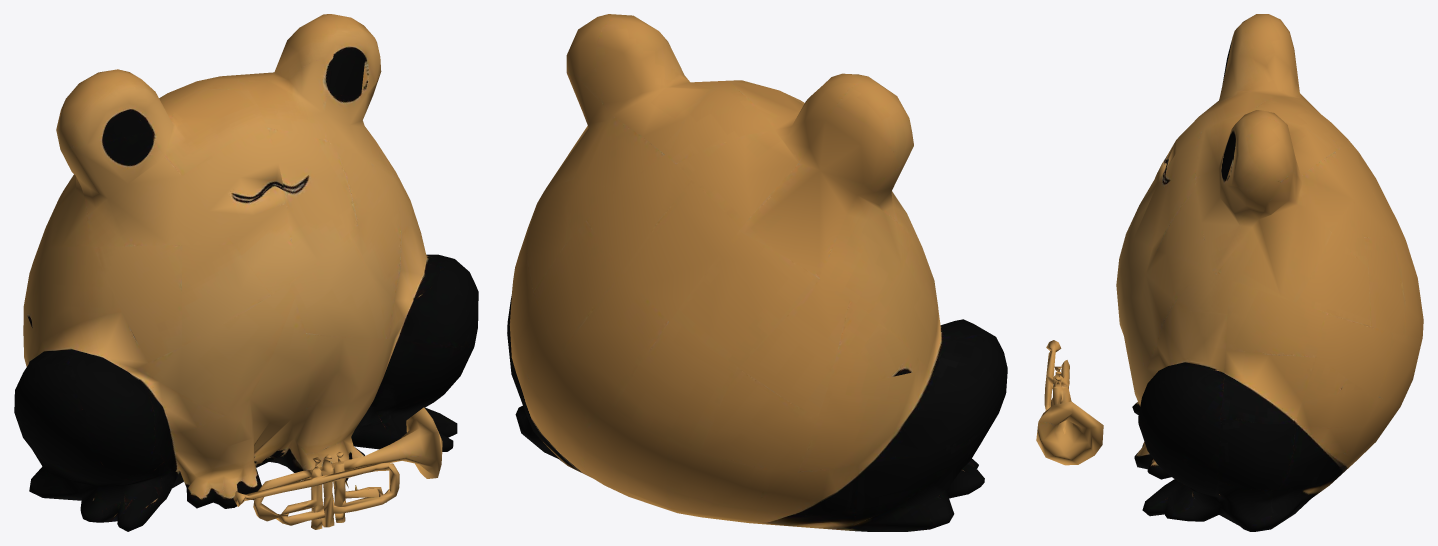
The model's file is musicienne.glb.
3 renders of one model, left to right at view 1: azimuth 30°, elevation 25°; view 2: azimuth 150°, elevation 25°; view 3: azimuth 270°, elevation 25°, orthographic. The views are drawn at different scales.
Visible parts, largest first — view 1: mesh_node; view 2: mesh_node; view 3: mesh_node.
Boxes of the visible parts, left/top/right/bottom form: mesh_node: left=14, top=14, right=478, bottom=531; mesh_node: left=507, top=14, right=1007, bottom=531; mesh_node: left=1036, top=14, right=1423, bottom=531.
Size of the model in its own units: 1.9 by 1.67 by 1.57.
Materials: 1 (1 with a texture image).
